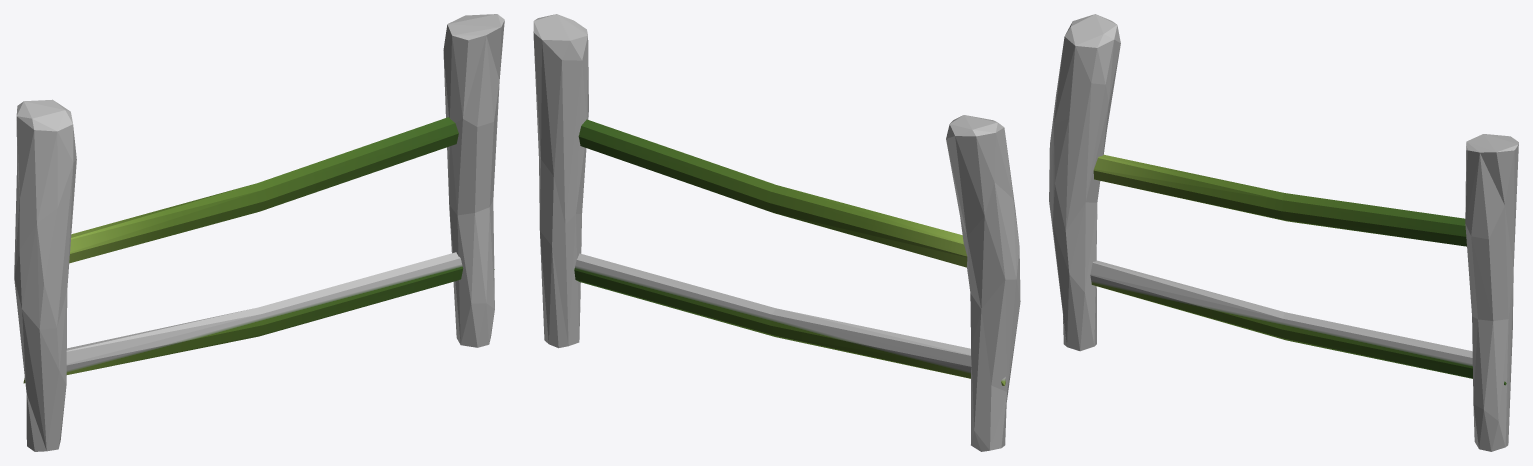
The model's file is Fence_01.fbx.
3 renders of one model, left to right at view 1: azimuth 30°, elevation 25°; view 2: azimuth 150°, elevation 25°; view 3: azimuth 330°, elevation 25°, orthographic. The views are drawn at different scales.
Visible parts, largest first — view 1: Fence_01; view 2: Fence_01; view 3: Fence_01.
Boxes of the visible parts, x1,y1,x2,y2 form: Fence_01: (14, 14, 504, 451); Fence_01: (533, 14, 1020, 451); Fence_01: (1049, 14, 1518, 451).
Size of the model in its own units: 4.24 by 2.77 by 0.5422.
